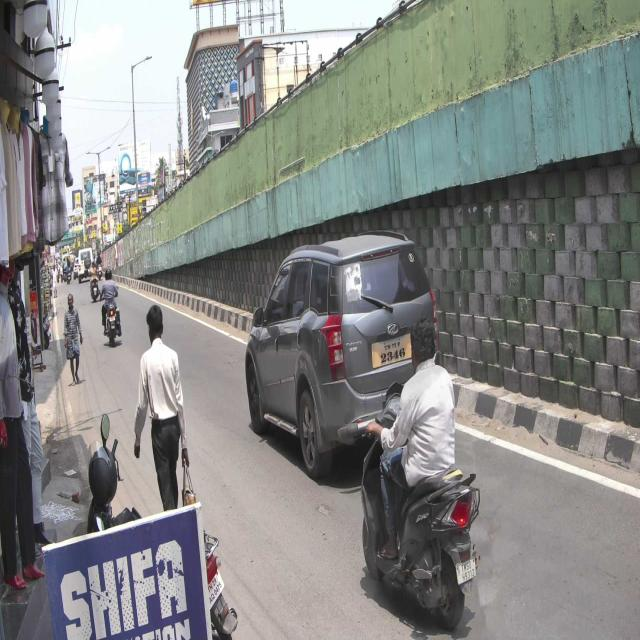single_rider: (359, 318, 482, 631)
